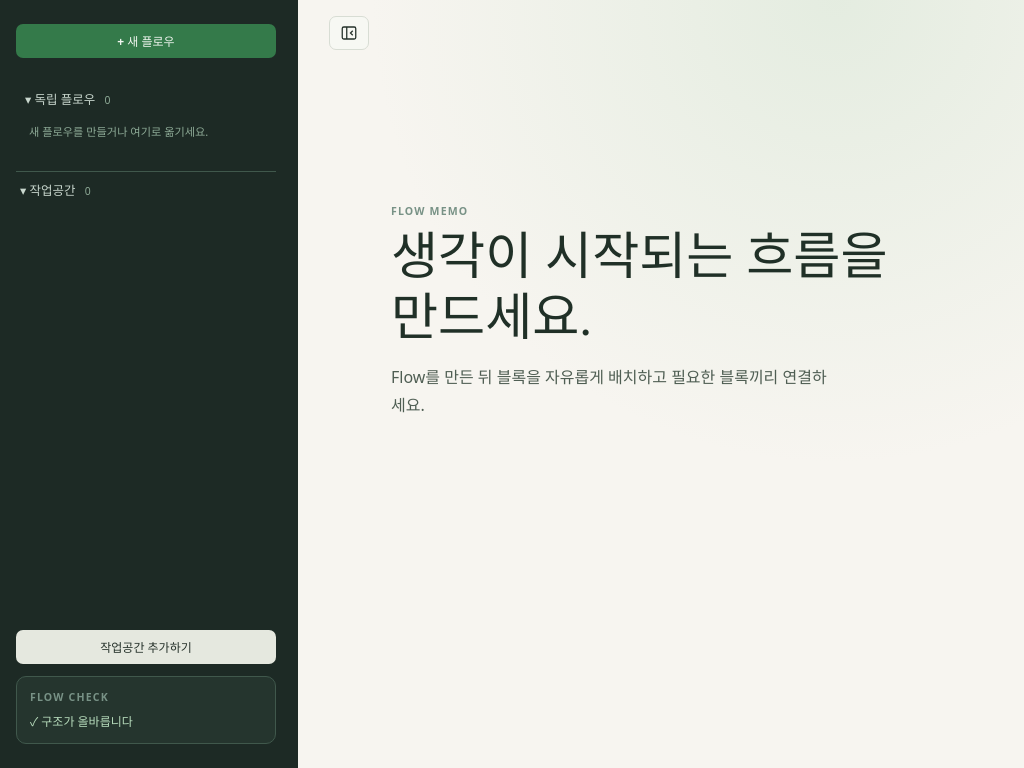
it: records a new folder selected from the add picker and allows dismissing the picker
Click the button with class "workspace-add-button" at (146, 647), box x1=16 y1=630 x2=276 y2=664
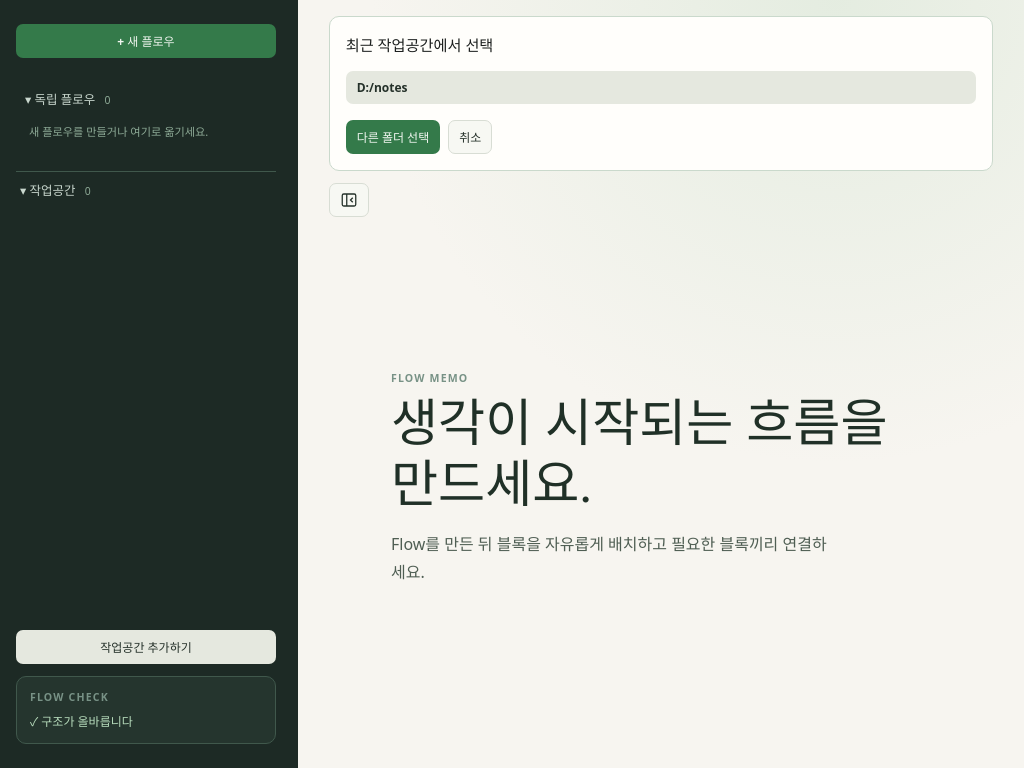
Click the button "D:/notes" at (382, 88), box x1=346 y1=71 x2=976 y2=104
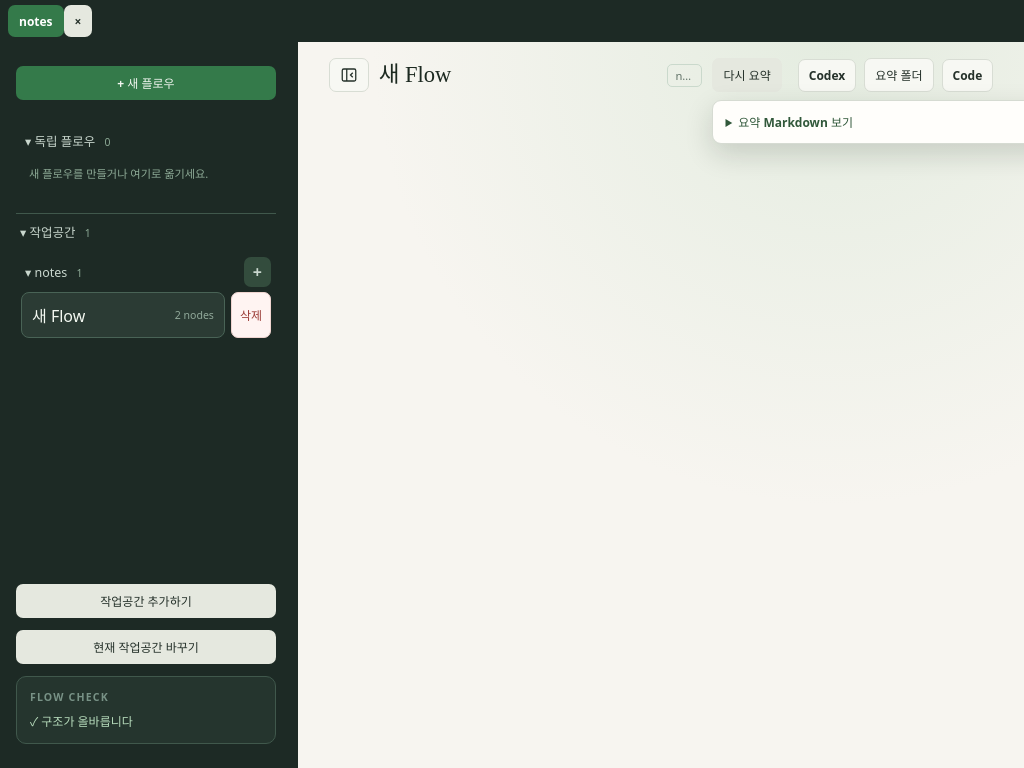
Click the button "작업공간 추가하기" at (146, 601), box x1=16 y1=584 x2=276 y2=618
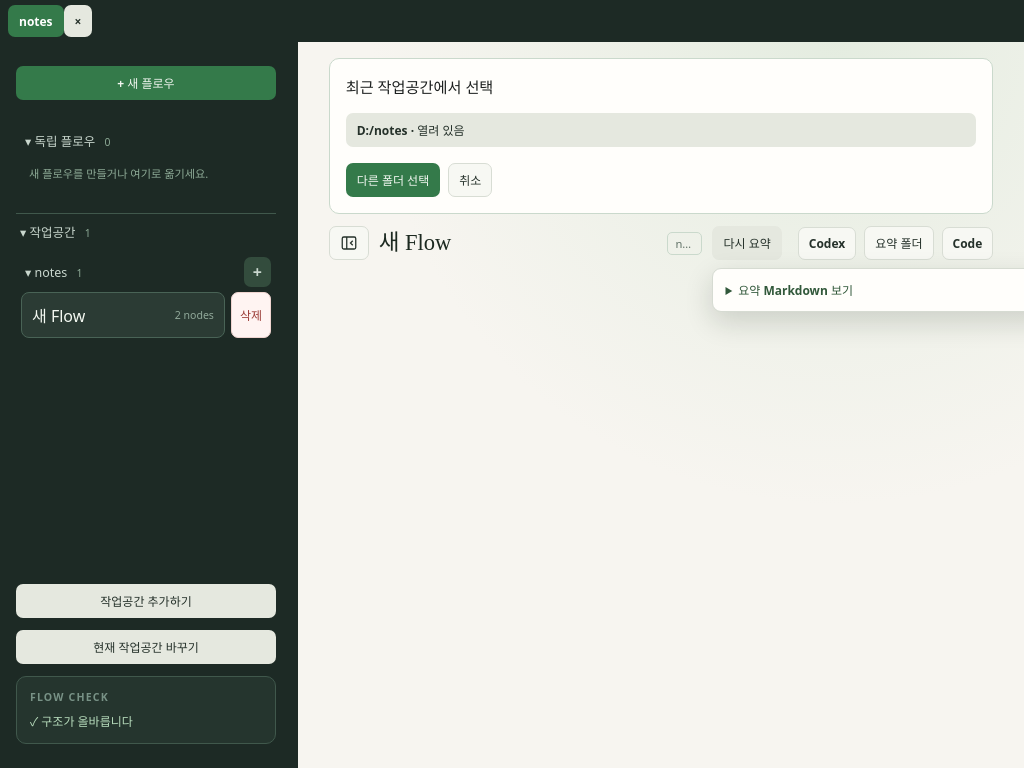
Click the button with class "workspace-other-folder" at (393, 180), box x1=346 y1=163 x2=440 y2=197
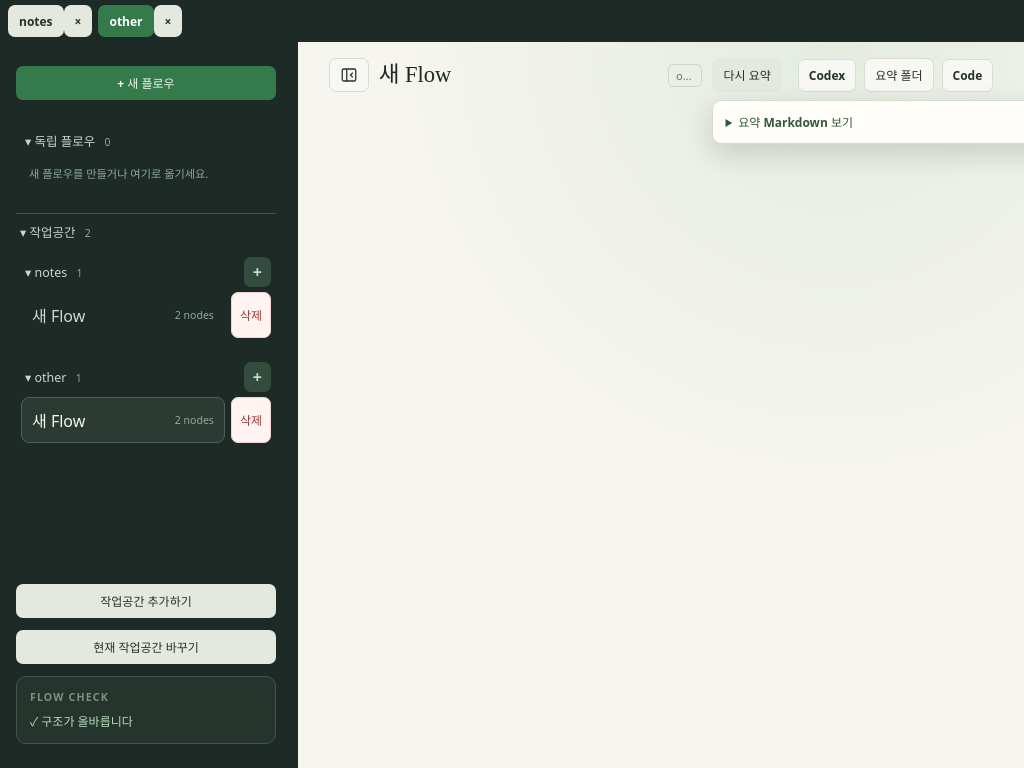
Now the element with class "workspace-add-picker" is gone
Click the button "작업공간 추가하기" at (146, 601), box x1=16 y1=584 x2=276 y2=618
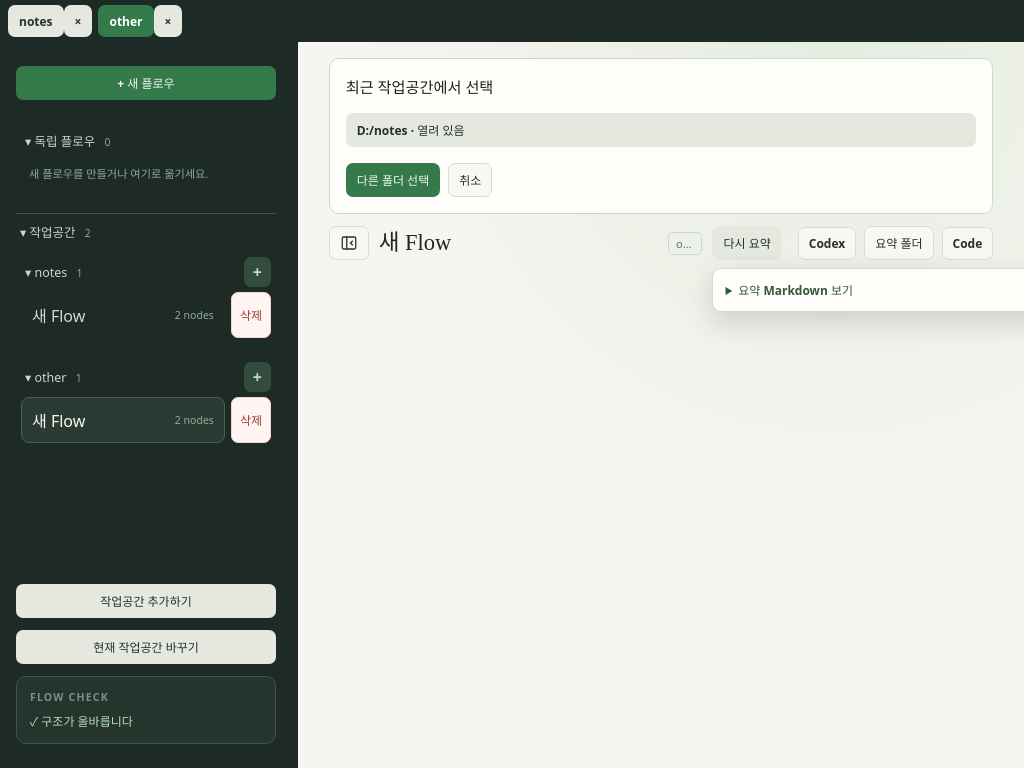
Press Escape in the element with class "workspace-add-picker", box x1=329 y1=58 x2=993 y2=214
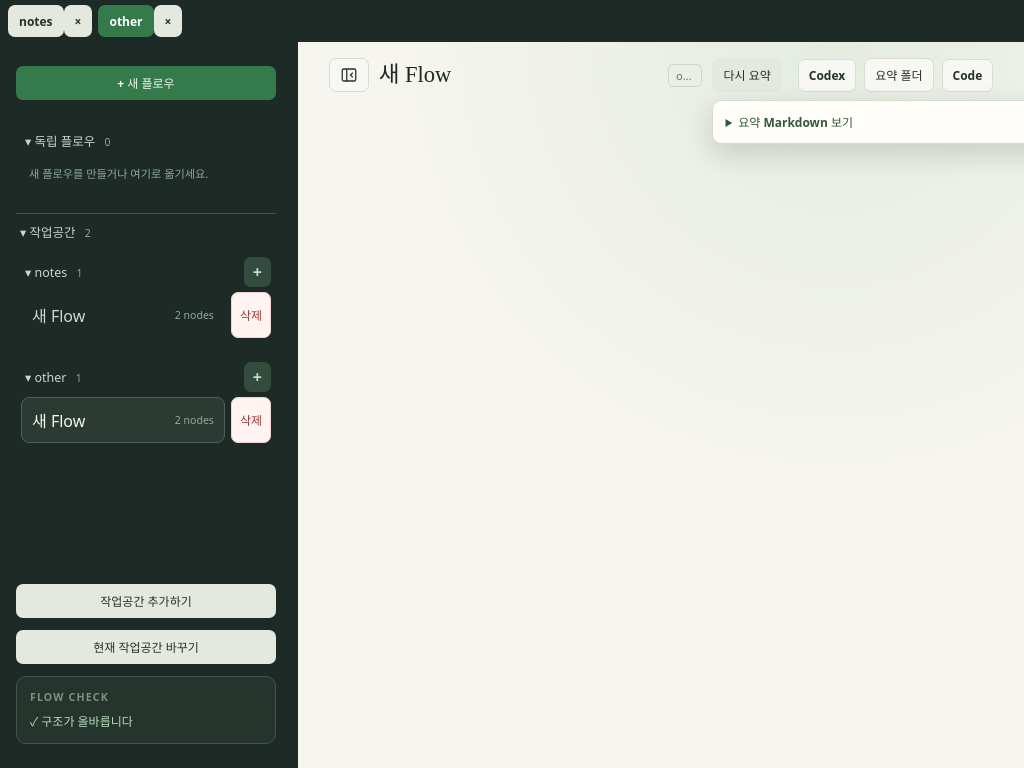
Now the number of elements with class "workspace-tab" is 2, box x1=8 y1=5 x2=92 y2=37; x1=98 y1=5 x2=182 y2=37
Now the element with class "workspace-add-picker" is gone
